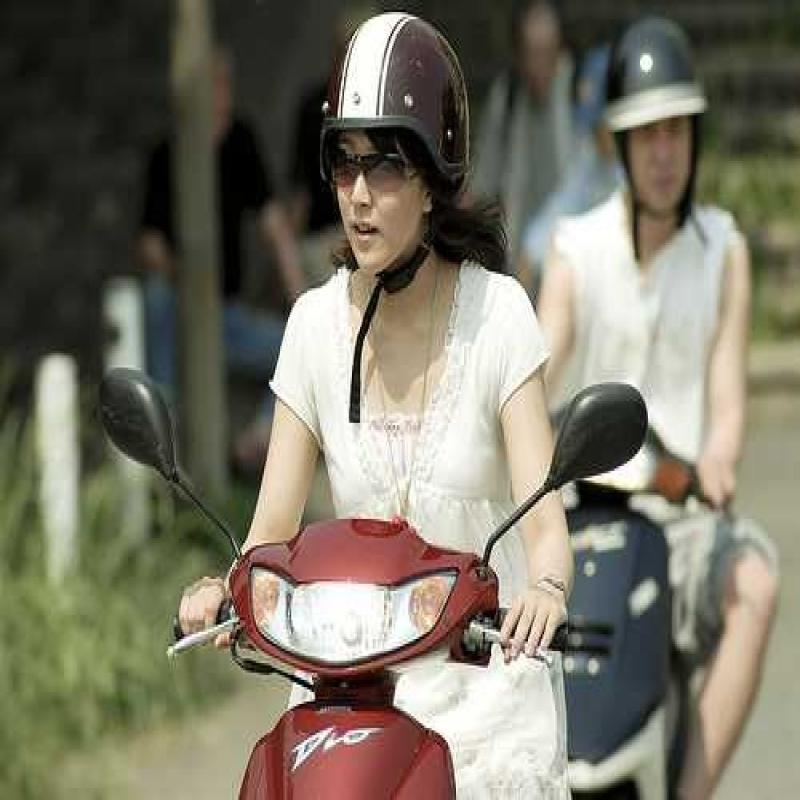bike: (150, 393, 626, 793)
